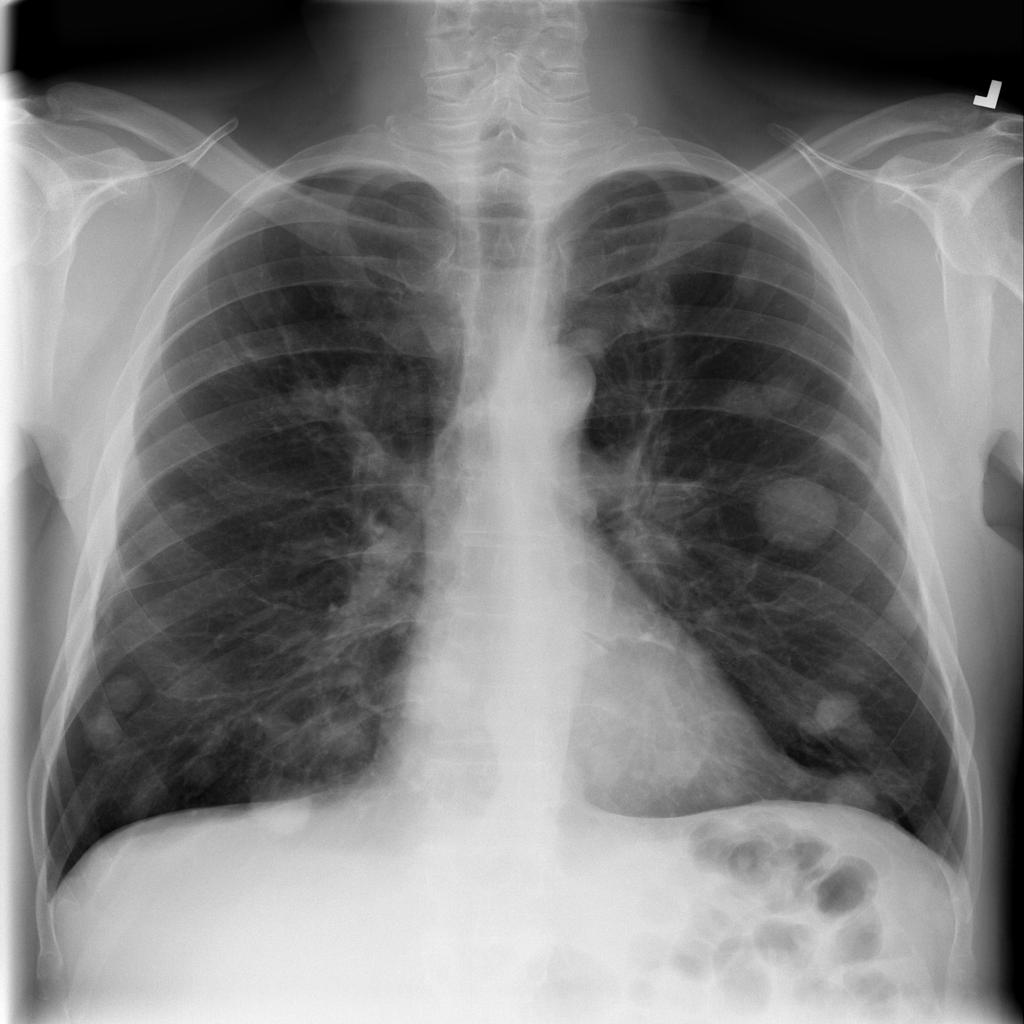nodule: (745, 451, 848, 568), (713, 363, 810, 434), (235, 772, 328, 843), (796, 682, 879, 755), (806, 762, 895, 828), (301, 697, 383, 768), (640, 727, 719, 795), (713, 246, 783, 317), (71, 689, 143, 757), (573, 727, 640, 800), (88, 660, 165, 718), (560, 317, 616, 363)
